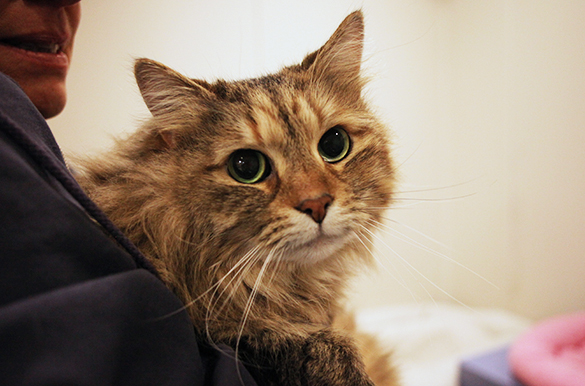cat: (97, 6, 419, 384)
